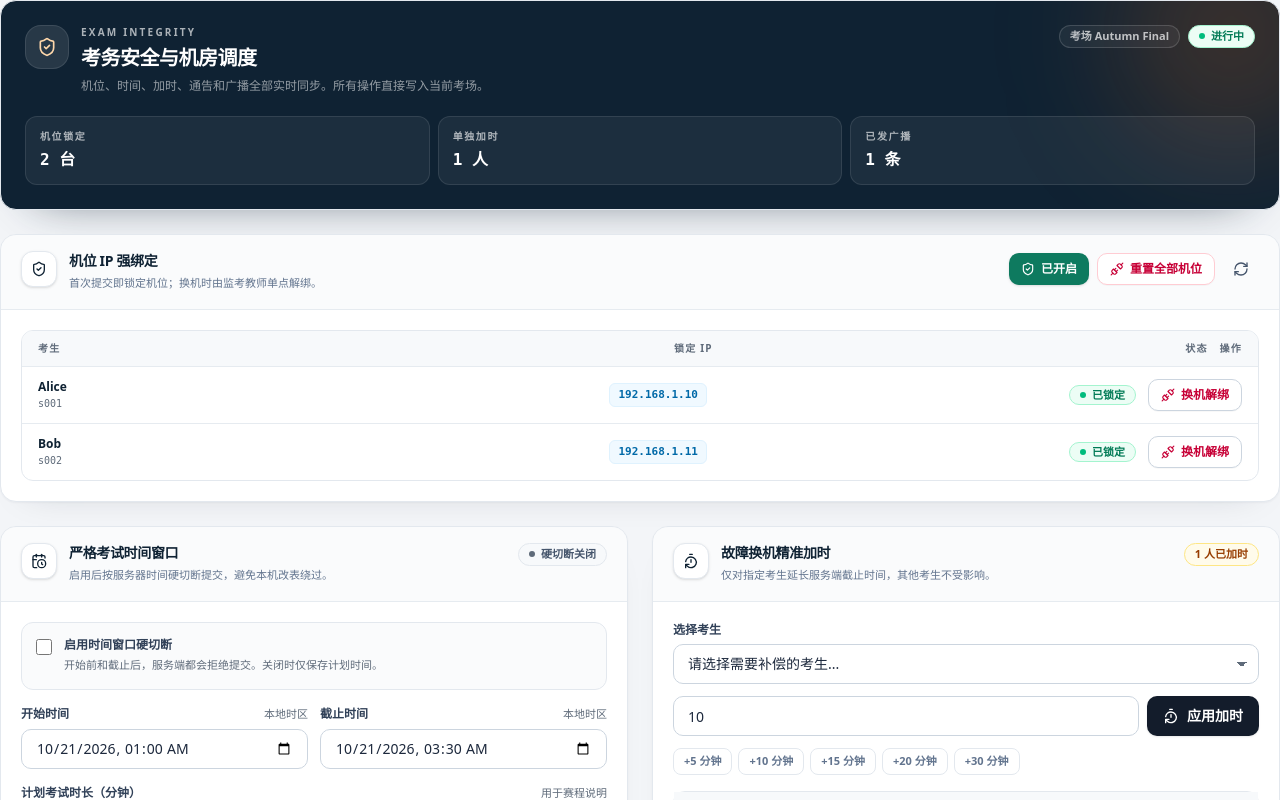
Test: TeacherSecurityPanel › validates extension input and sends the chosen participant and minutes
Step 1. Select "Alice · s001" in the dropdown labelled "选择考生" → point(966, 664), box x1=673 y1=644 x2=1259 y2=684
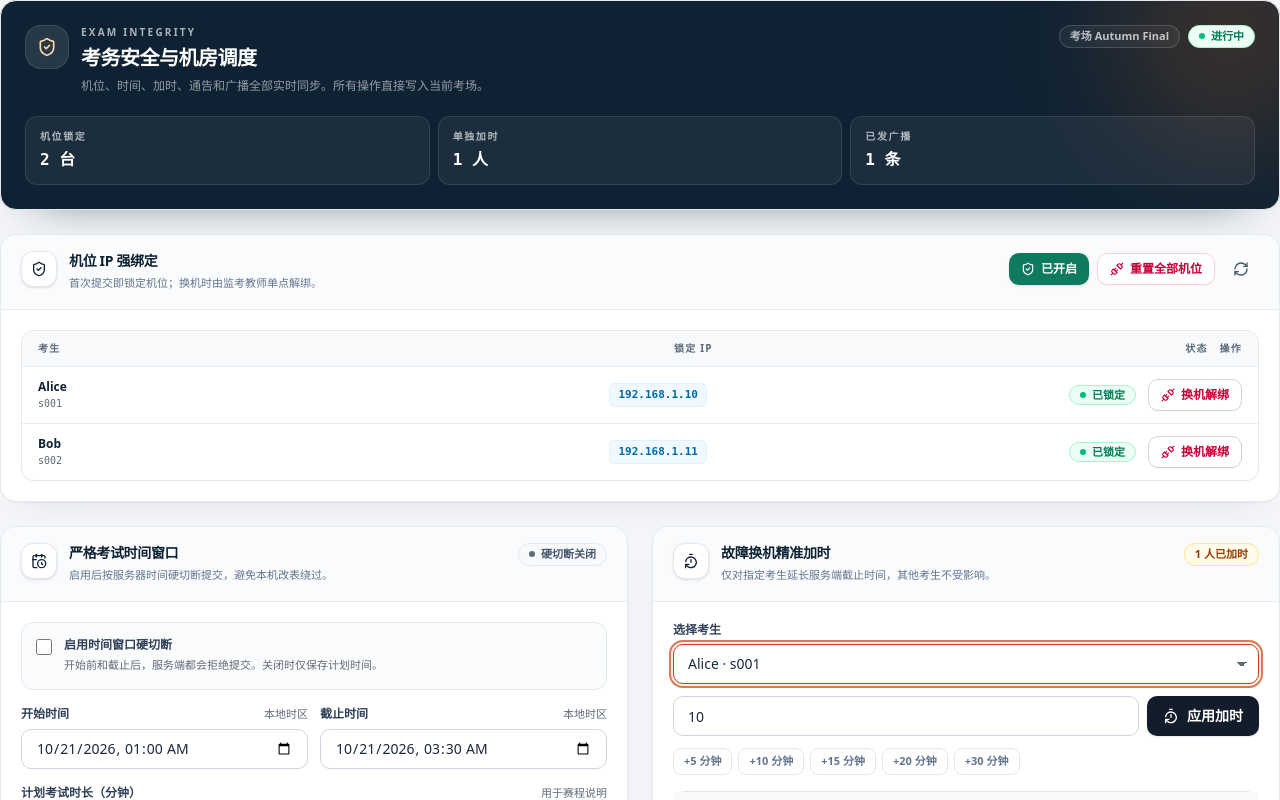
Step 2. Replace the text in the number field named "加时分钟数" with "15" → point(906, 716), box x1=673 y1=696 x2=1139 y2=736
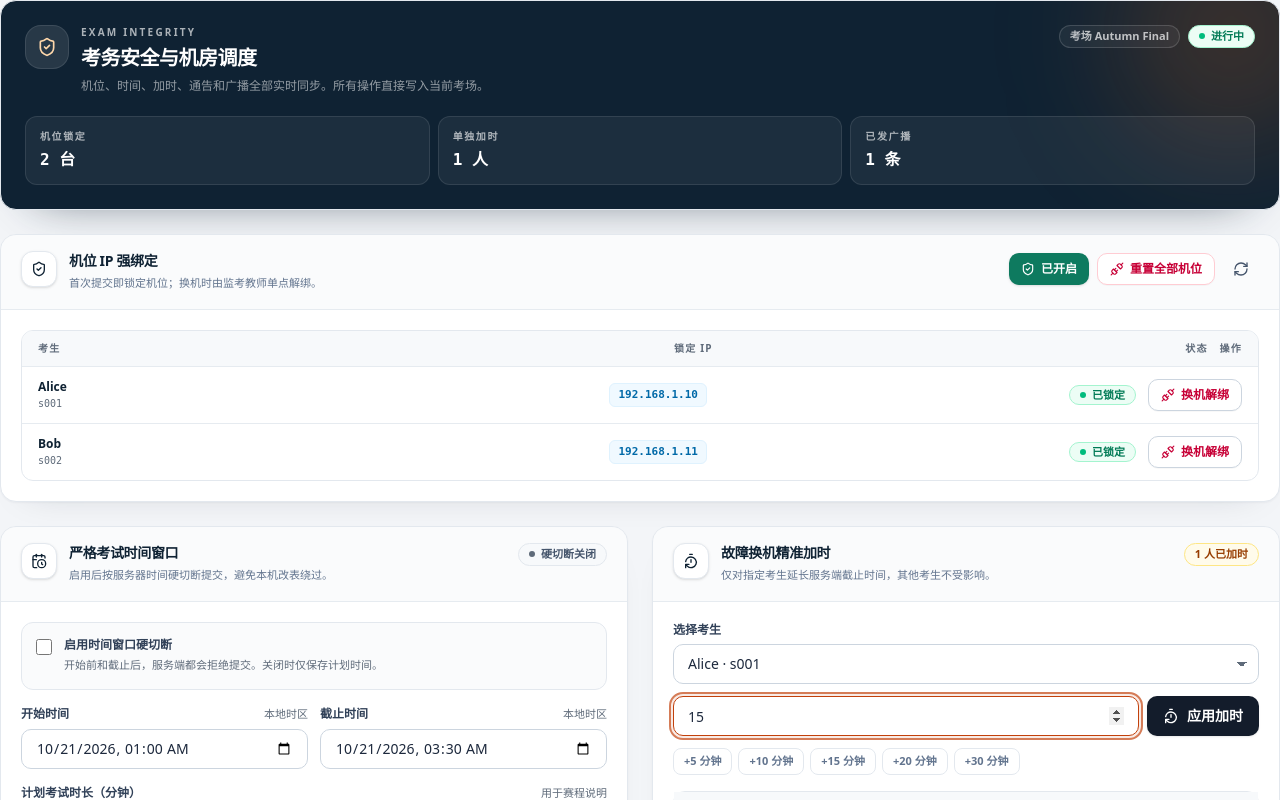
Step 3. Click the button "应用加时" → point(1203, 716), box x1=1147 y1=696 x2=1259 y2=736
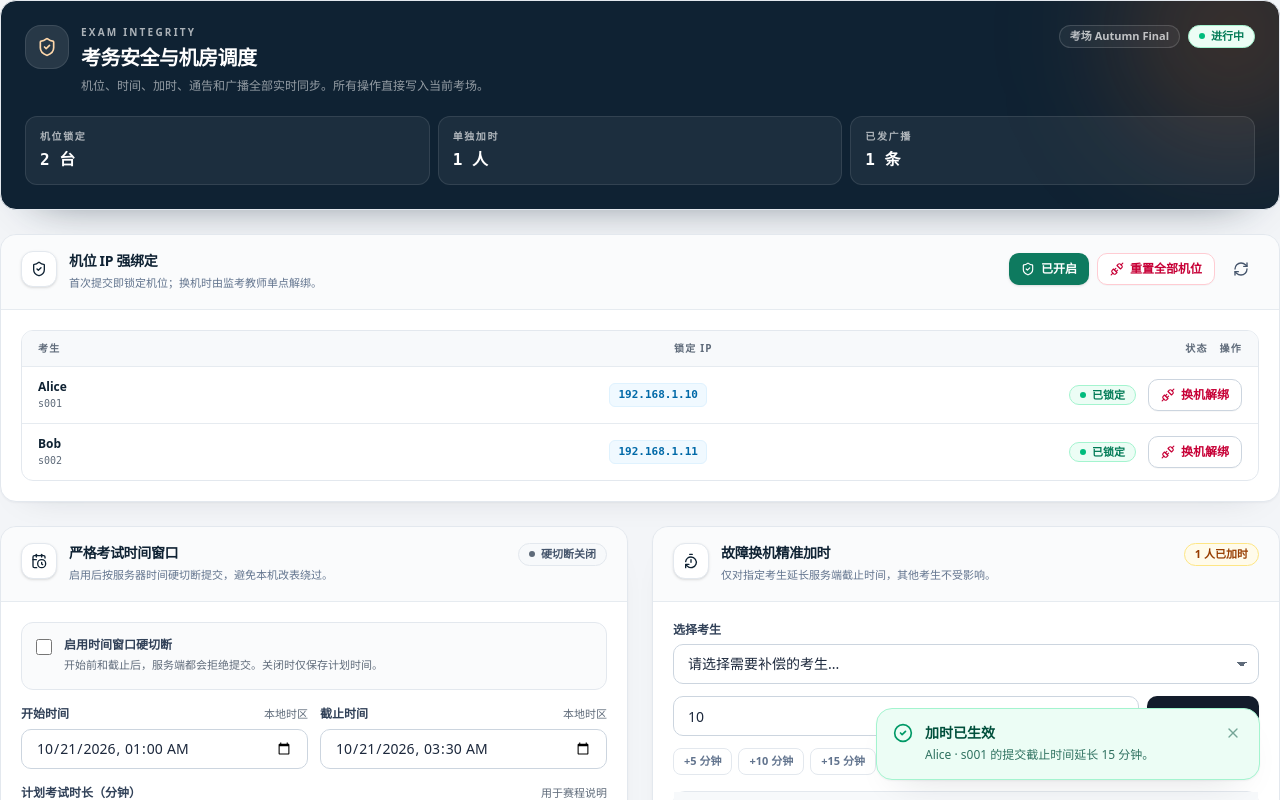
Now the text "加时已生效" is shown, box x1=925 y1=723 x2=995 y2=742
